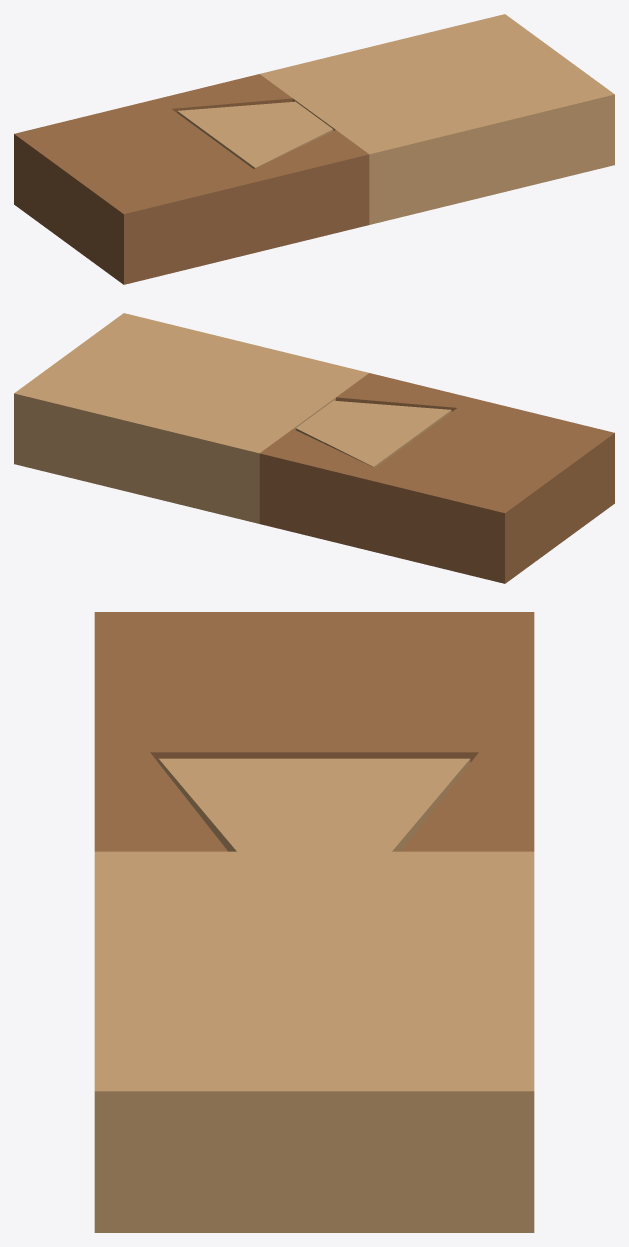
File: dovetail.glb
3 views of the same model, one above another, from view 1: azimuth 30°, elevation 25°; view 2: azimuth 150°, elevation 25°; view 3: azimuth 270°, elevation 25° (orthographic). The views are drawn at different scales.
Visible parts, largest first — view 1: female board, tail board, dovetail; view 2: female board, tail board, dovetail; view 3: tail board, female board, dovetail.
Part boxes in pixels (left/top/right/bottom): female board: left=14, top=74, right=369, bottom=284; tail board: left=260, top=14, right=614, bottom=224; dovetail: left=177, top=101, right=333, bottom=168; female board: left=259, top=373, right=614, bottom=583; tail board: left=14, top=313, right=368, bottom=523; dovetail: left=295, top=400, right=451, bottom=467; tail board: left=94, top=851, right=534, bottom=1232; female board: left=94, top=612, right=534, bottom=851; dovetail: left=158, top=758, right=470, bottom=851.
Bounding box in the file's own units: 4 × 0.55 × 1.55.
